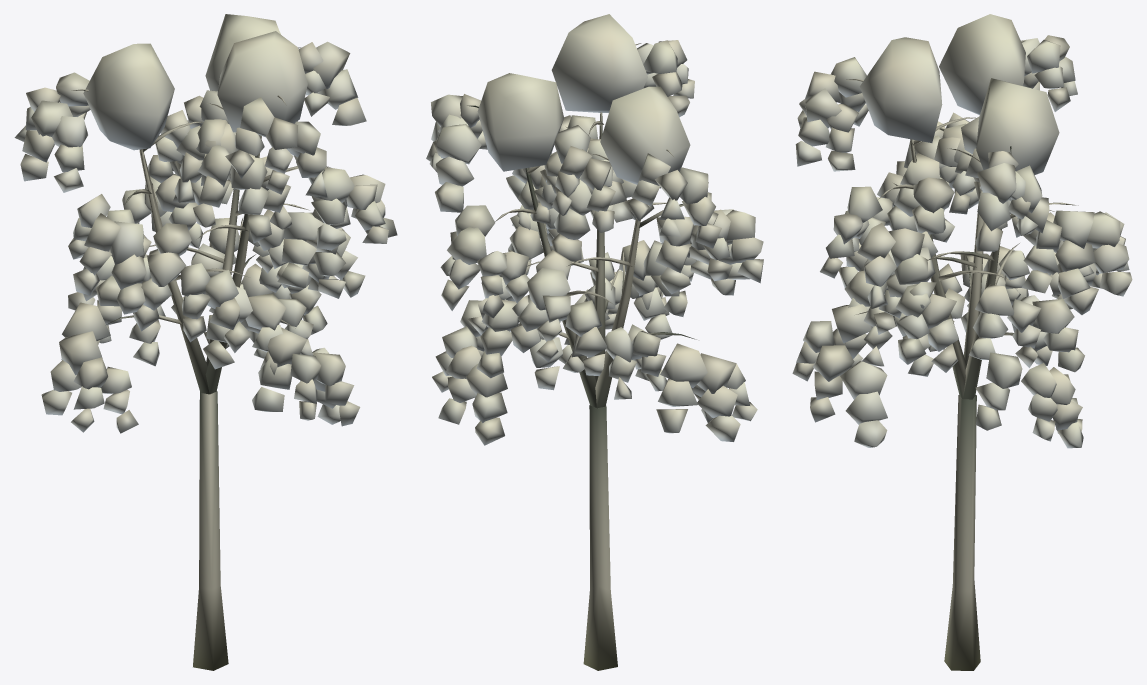
The picture shows the model from 3 angles, left to right: view 1: azimuth 30°, elevation 25°; view 2: azimuth 150°, elevation 25°; view 3: azimuth 270°, elevation 25°; orthographic projection. The views are drawn at different scales.
Visible parts, largest first — view 1: crown, trunk; view 2: crown, trunk; view 3: crown, trunk.
Part boxes in pixels (x1,y1,x2,y2): crown: [14, 14, 397, 433]; trunk: [71, 47, 330, 670]; crown: [426, 14, 763, 445]; trunk: [467, 43, 696, 670]; crown: [792, 14, 1132, 448]; trunk: [846, 41, 1078, 670].
Bounding box in the file's own units: 7.48 × 14.26 × 6.89.
